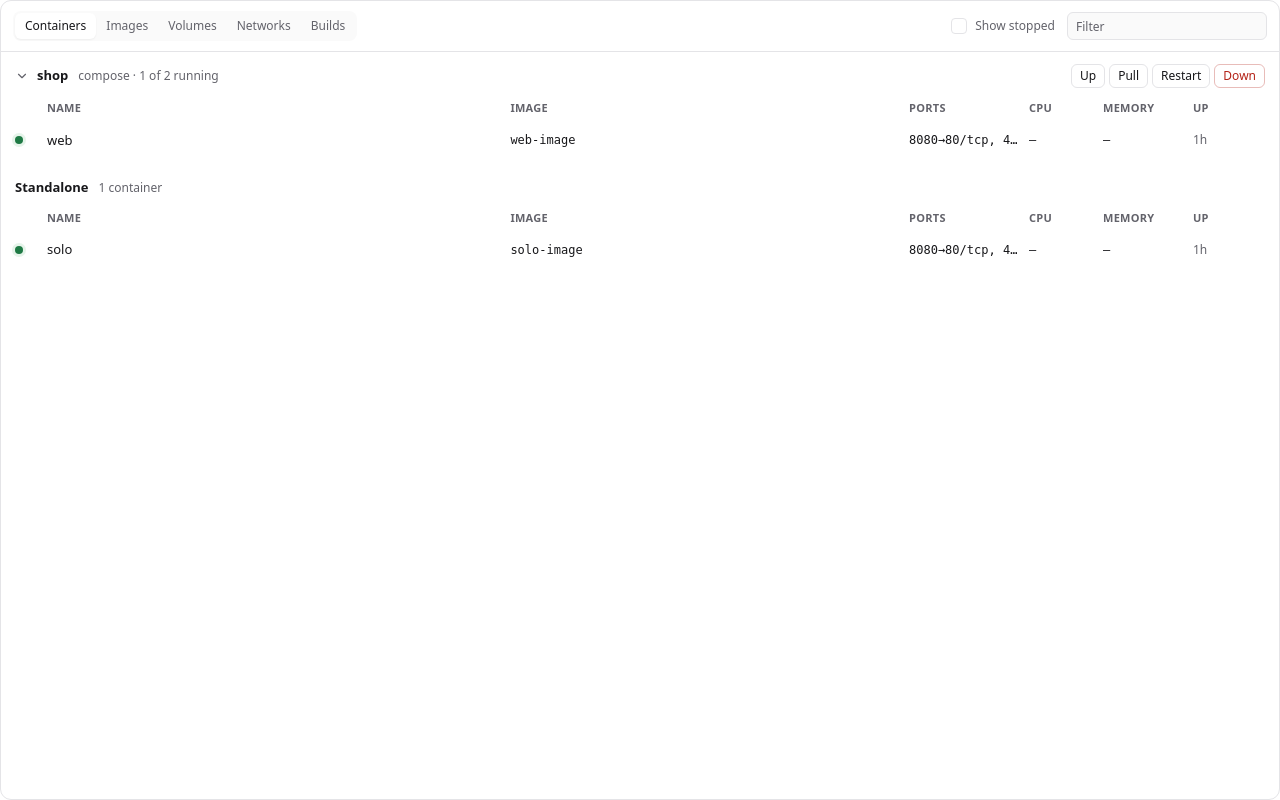
Test case: ContainersView › filters by name or image, case-insensitively
Expected: the button "web" is shown, [47,130,500,150]
Step 1. Type "SOLO-IM" into the field named "Filter containers" → (1167, 26), box [1067,12,1267,40]
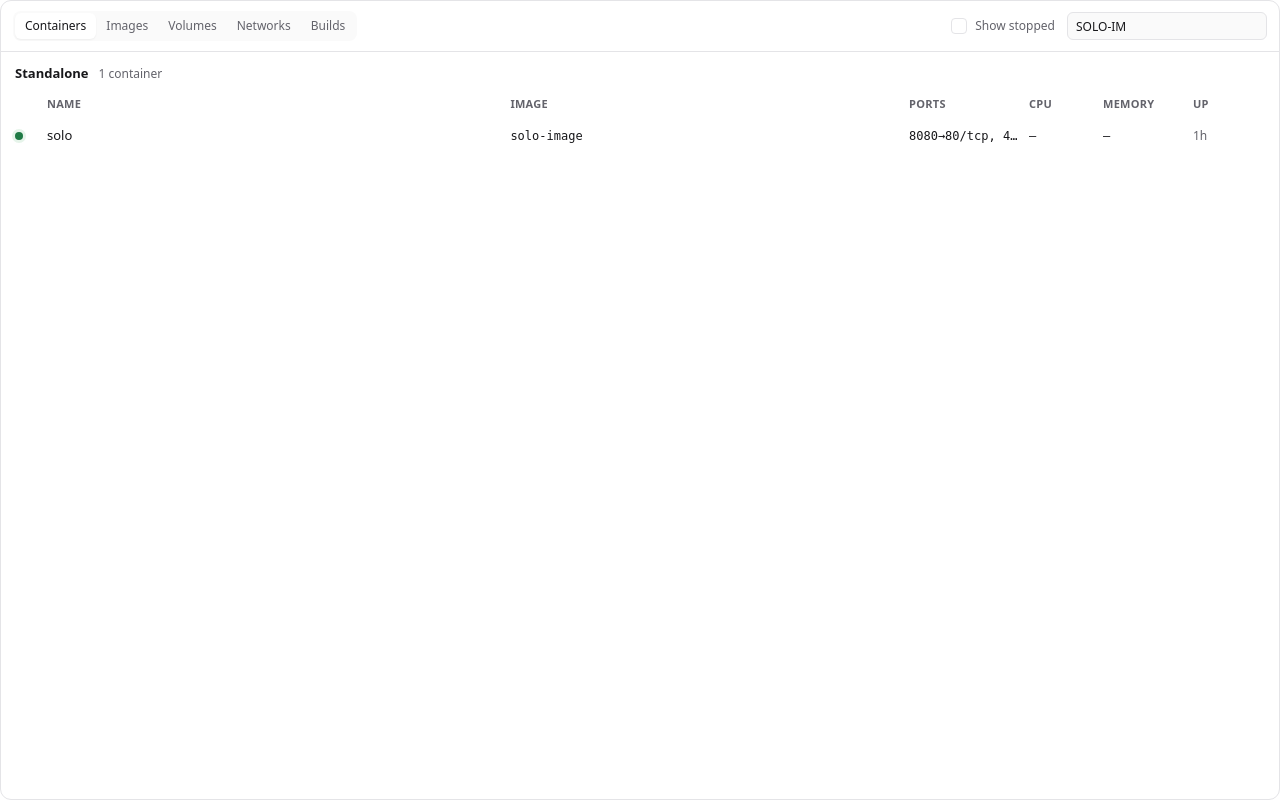
Expected: the button "solo" is shown, [47,126,500,146]
Expected: the button "web" is gone
Expected: the button "shop" is gone
